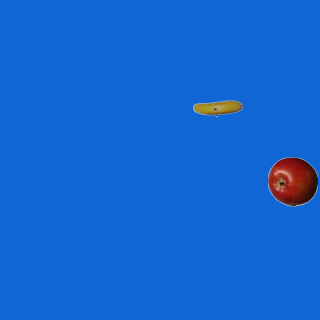Apple Braeburn: (267, 156, 317, 206)
Banana: (192, 83, 242, 133)
